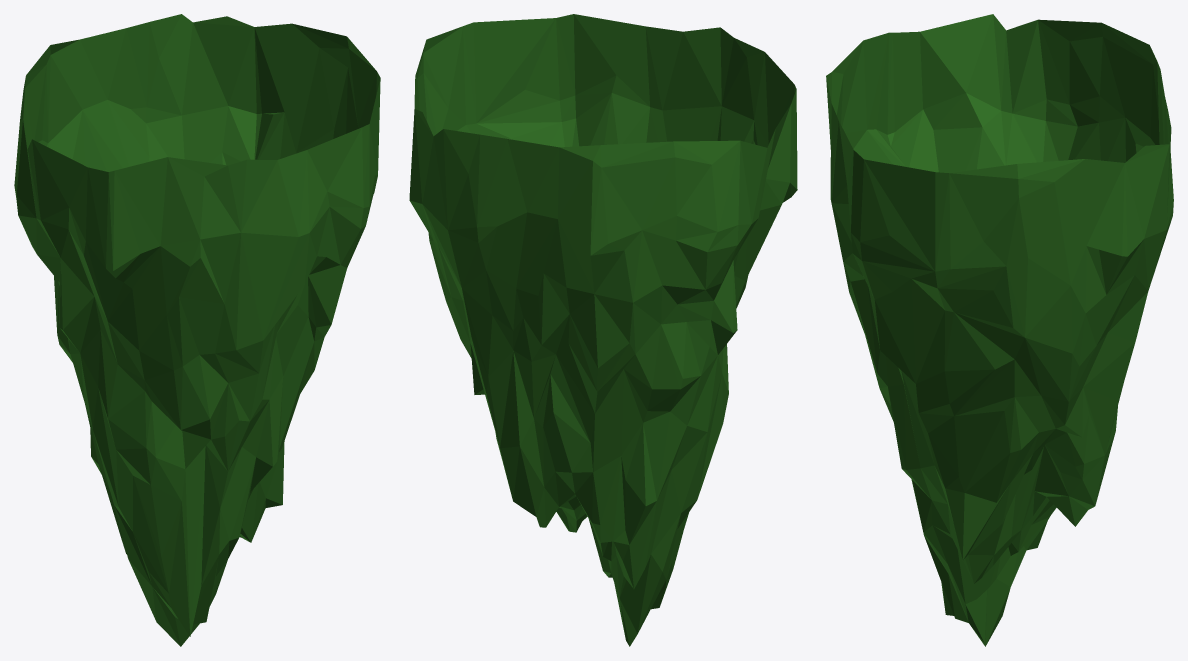
File: 1mainIsland-bottom.obj
3 views of the same model, side by side, from view 1: azimuth 30°, elevation 25°; view 2: azimuth 150°, elevation 25°; view 3: azimuth 270°, elevation 25° (orthographic). The views are drawn at different scales.
Visible parts, largest first — view 1: Main_island; view 2: Main_island; view 3: Main_island.
Part boxes in pixels (x1,y1,x2,y2): Main_island: [14, 14, 380, 646]; Main_island: [409, 14, 797, 646]; Main_island: [826, 14, 1173, 646].
Size of the model in its own units: 90.04 by 145 by 79.6.
